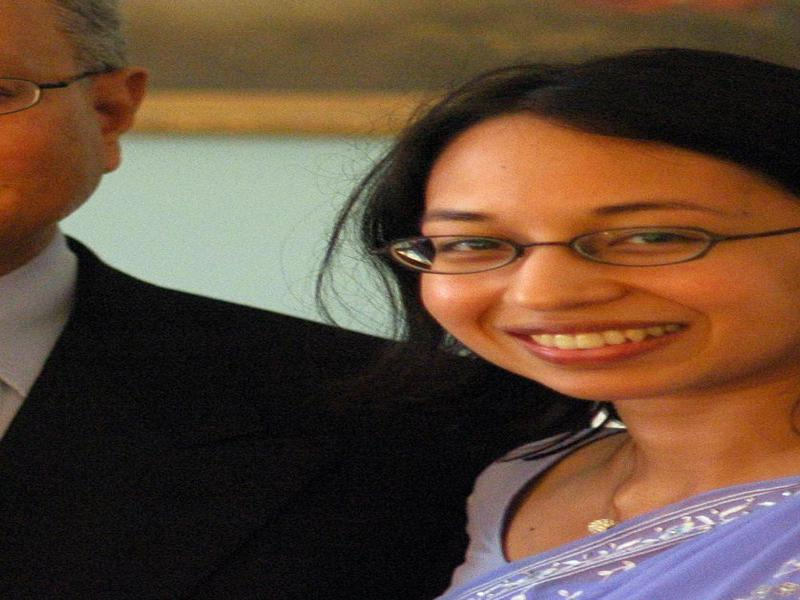person: (1, 1, 573, 595), (384, 57, 794, 600)
